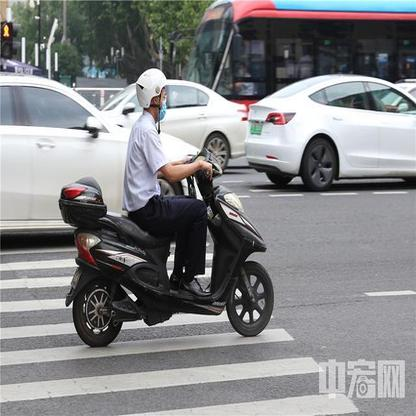target: (56, 67, 275, 350)
